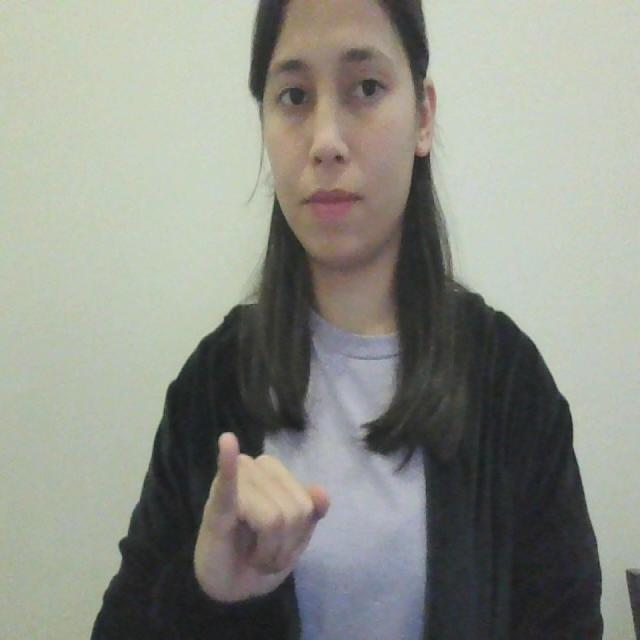kotu: (194, 422, 340, 602)
